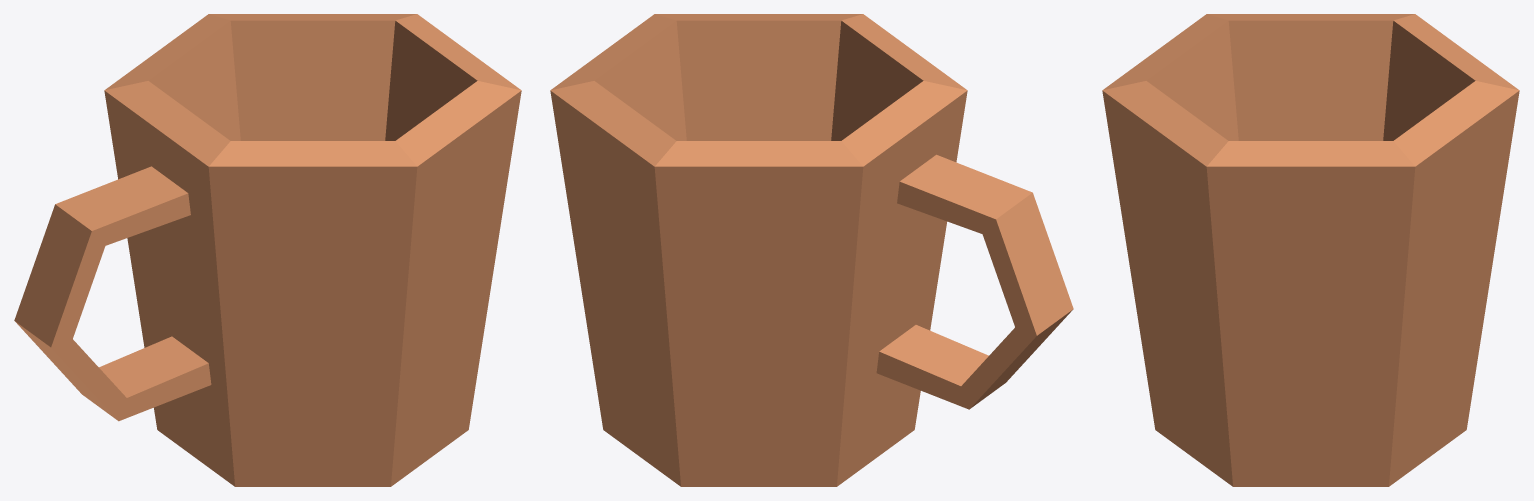
The model's file is Caneca.fbx.
3 views of the same model, side by side, from view 1: azimuth 30°, elevation 25°; view 2: azimuth 150°, elevation 25°; view 3: azimuth 270°, elevation 25° (orthographic).
Visible parts, largest first — view 1: Cilindro.013; view 2: Cilindro.013; view 3: Cilindro.013.
Boxes of the visible parts, box(x1,y1,x2,y2) form: Cilindro.013: box(14, 14, 521, 486); Cilindro.013: box(550, 14, 1073, 486); Cilindro.013: box(1102, 14, 1519, 486).
Size of the model in its own units: 21.46 by 16.09 by 17.44.
